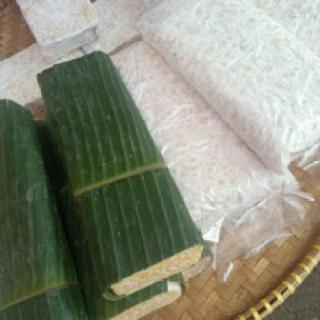Tempe: (36, 51, 208, 300)
